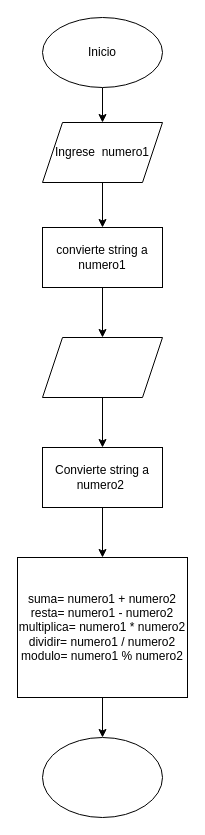
The diagram is 205 pixels wide and 835 high, and some of its shapes have lost their labels. Here are the shapes that lost their labels. From the top down, the centre of each, then its label:
the point at 102,367: Ingrese numero2
the point at 102,777: Fin
